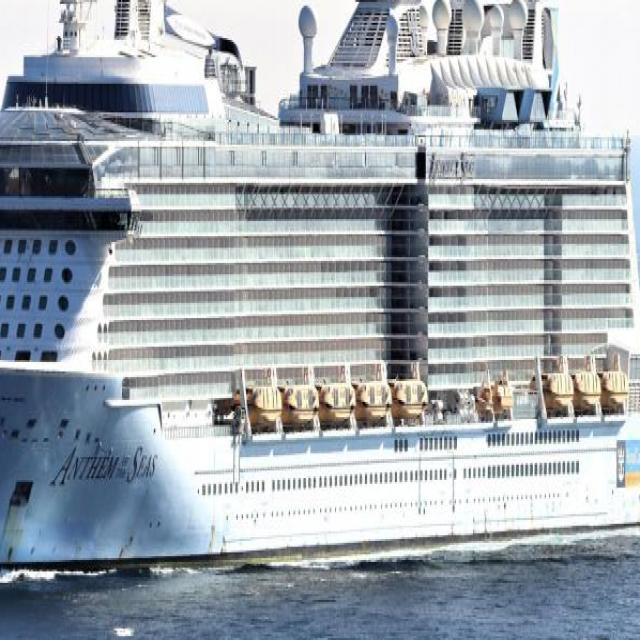cruises: (1, 1, 640, 597)
